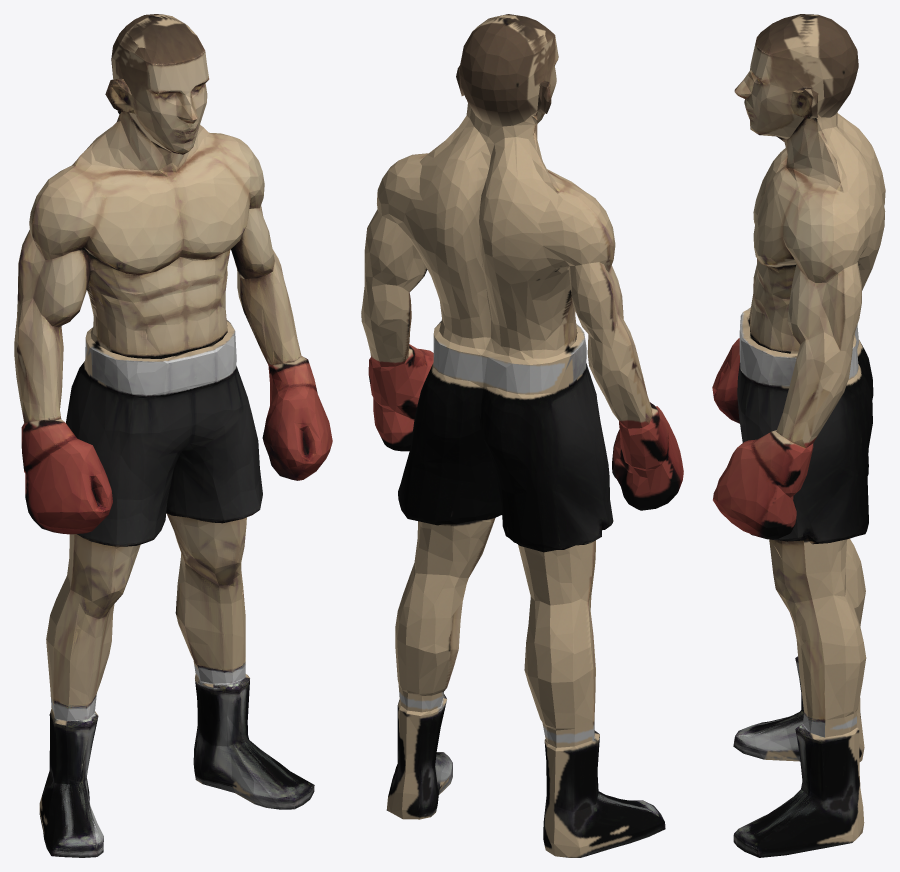
File: boxer_base_m.glb
The picture shows the model from 3 angles, left to right: view 1: azimuth 30°, elevation 25°; view 2: azimuth 150°, elevation 25°; view 3: azimuth 270°, elevation 25°; orthographic projection. The views are drawn at different scales.
Visible parts, largest first — view 1: world; view 2: world; view 3: world.
Part boxes in pixels (left/top/right/bottom): world: left=14, top=14, right=332, bottom=857; world: left=361, top=14, right=683, bottom=857; world: left=712, top=14, right=885, bottom=857.
Size of the model in its own units: 0.2766 by 0.6963 by 0.1404.
1 material, 1 textured.
